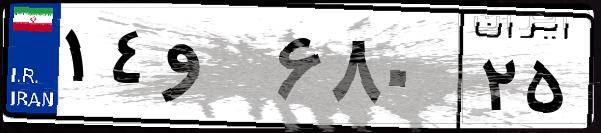0: (385, 28, 445, 110)
1: (57, 26, 110, 100)
2: (475, 38, 525, 113)
4: (110, 28, 158, 98)
5: (525, 38, 570, 115)
6: (270, 28, 330, 110)
8: (330, 28, 385, 110)
و: (158, 20, 270, 120)
